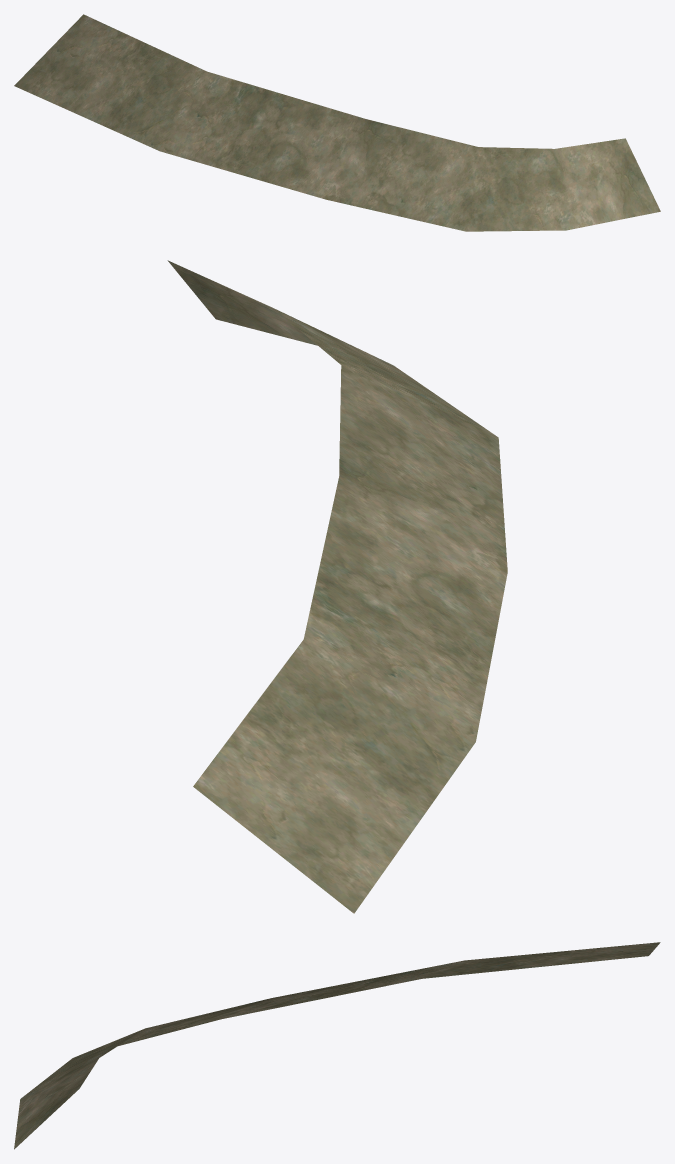
The model's file is OVERHILL_A_01_OBJECT183.fbx.
The picture shows the model from 3 angles, top to bottom: view 1: azimuth 30°, elevation 25°; view 2: azimuth 150°, elevation 25°; view 3: azimuth 270°, elevation 25°; orthographic projection. The views are drawn at different scales.
Visible parts, largest first — view 1: OVERHILL_A_01_OBJECT183; view 2: OVERHILL_A_01_OBJECT183; view 3: OVERHILL_A_01_OBJECT183.
Part boxes in pixels (left/top/right/bottom): OVERHILL_A_01_OBJECT183: left=14, top=14, right=660, bottom=231; OVERHILL_A_01_OBJECT183: left=167, top=260, right=507, bottom=913; OVERHILL_A_01_OBJECT183: left=14, top=942, right=660, bottom=1149.
Size of the model in its own units: 153879 by 21701 by 219145.
Materials: 1 (1 with a texture image).
